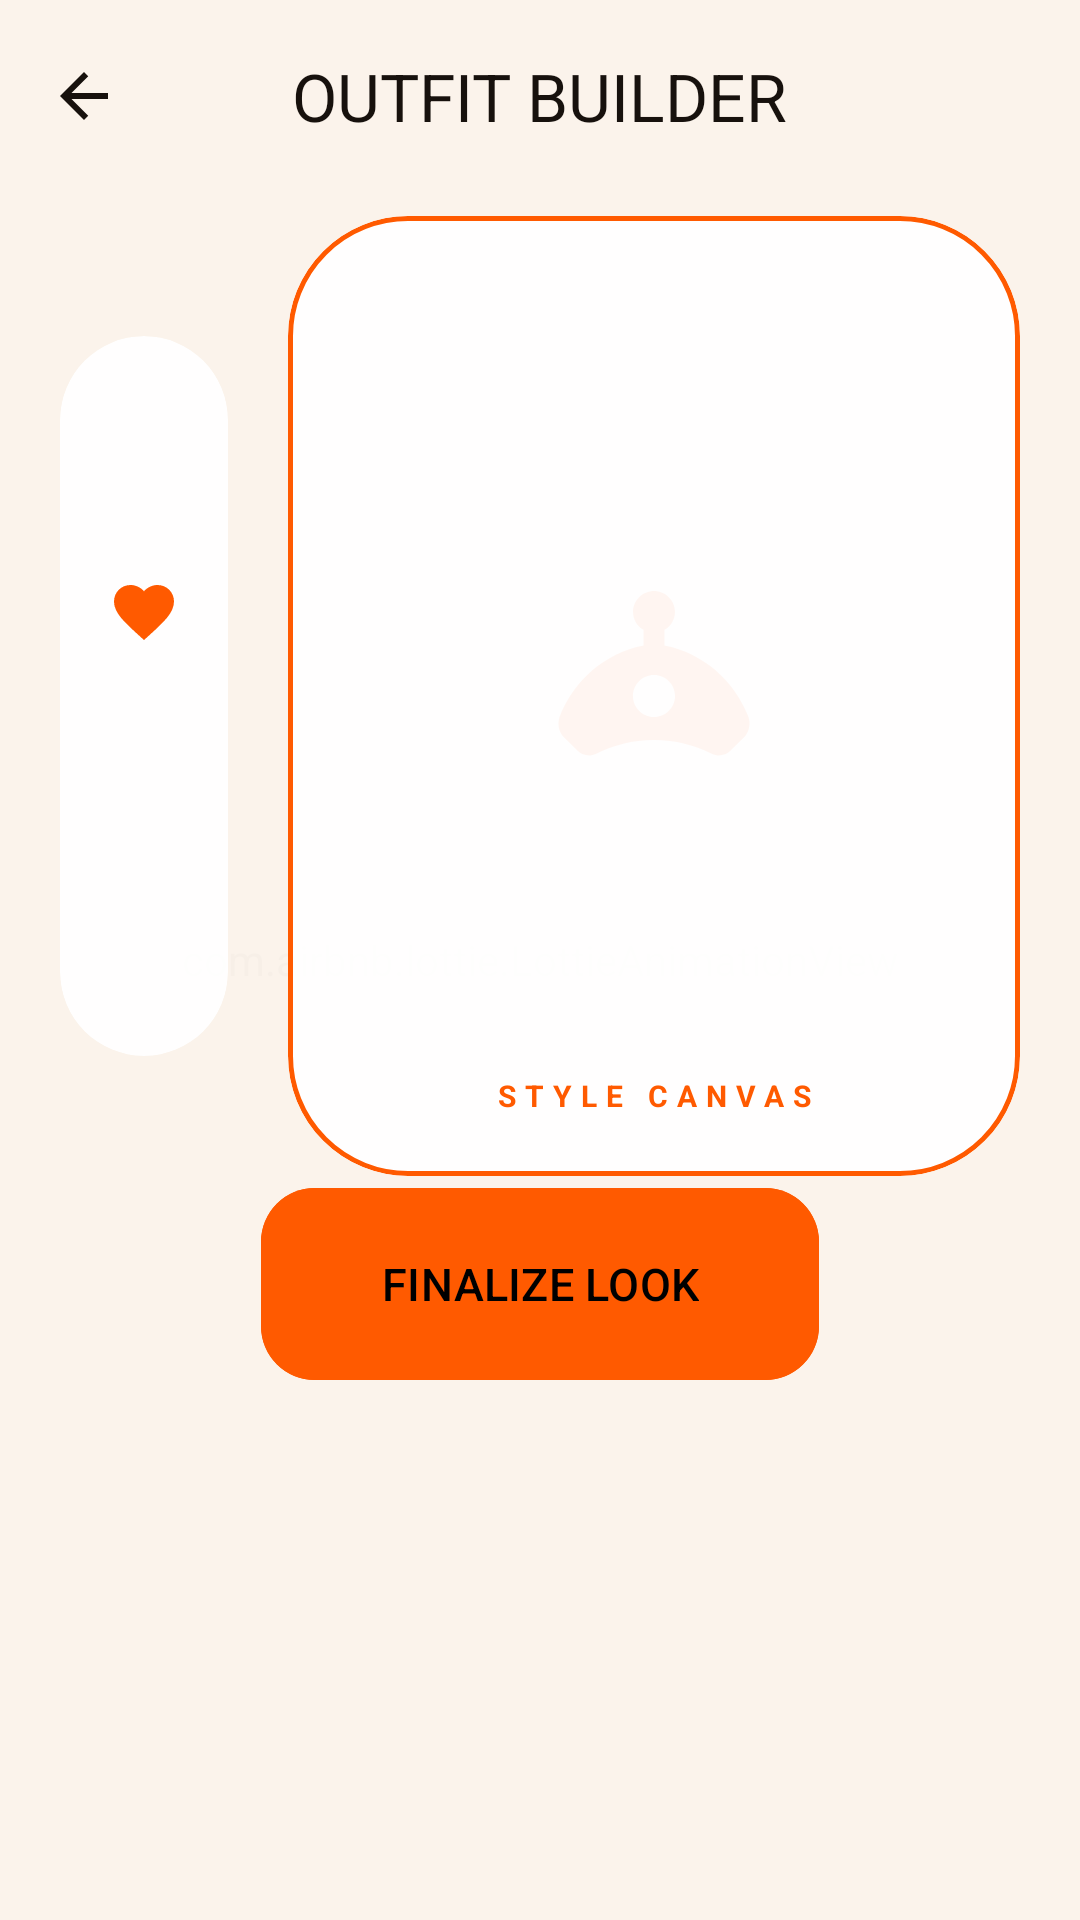

Icons on this 1080×1920 Android screen, each with the point to tap as [x,y]:
heart: [144,612]
